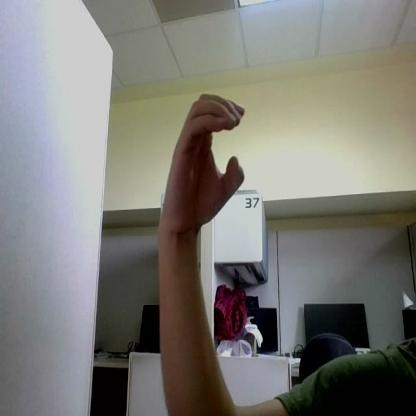C: (169, 93, 244, 224)
